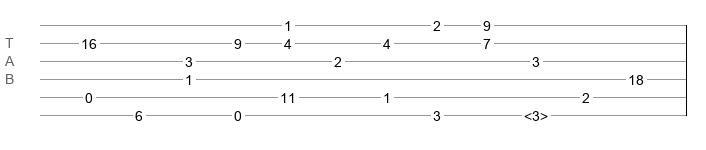0: (85, 90, 93, 100), (234, 108, 242, 118)
1: (185, 72, 193, 82), (284, 18, 292, 28), (383, 90, 391, 100)
11: (280, 90, 296, 100)
16: (81, 36, 97, 46)
18: (628, 72, 644, 82)
2: (334, 54, 342, 64), (433, 18, 441, 28), (582, 90, 590, 100)
3: (185, 54, 193, 64), (433, 108, 441, 118), (532, 54, 540, 64)
4: (284, 36, 292, 46), (383, 36, 391, 46)
6: (135, 108, 143, 118)
7: (483, 36, 491, 46)
9: (234, 36, 242, 46), (483, 18, 491, 28)
harmonic: (524, 108, 548, 118)
